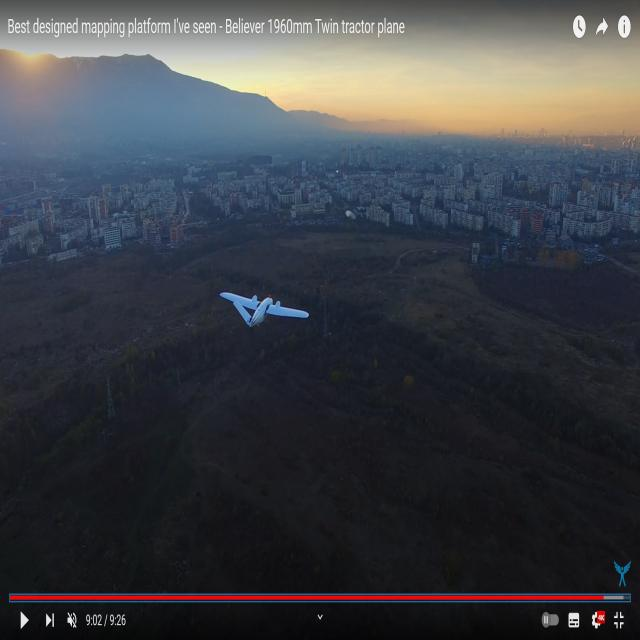iha: (247, 284, 271, 341)
